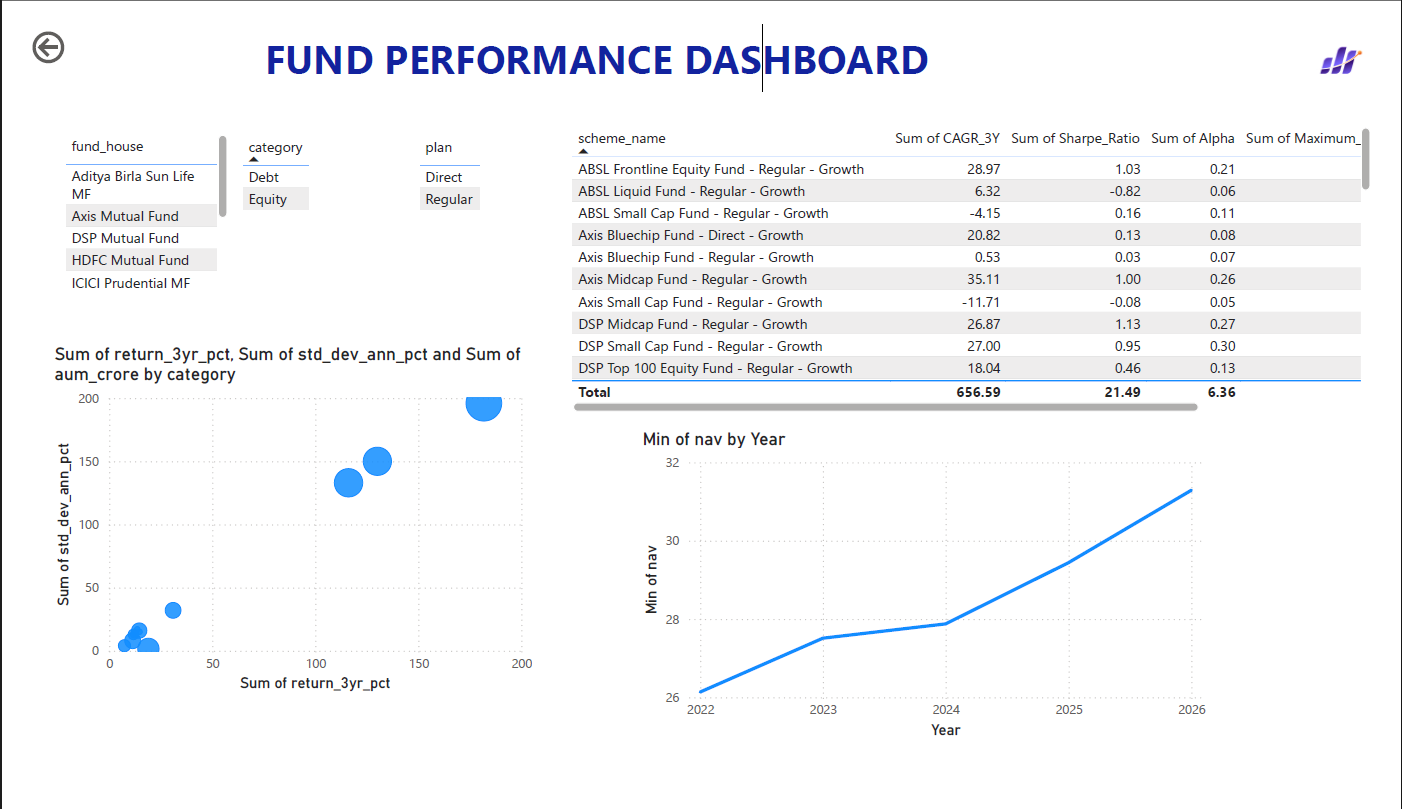

This screenshot's page, from the dashboard's own definition file:
{"tool":"powerbi","page":{"name":"Fund Performance","canvas":[1280,720],"ordinal":1},"visuals":[{"type":"tableEx","fields":{"Values":["fund_scorecard.scheme_name","Sum(fund_scorecard.CAGR_3Y)","Sum(fund_scorecard.Sharpe_Ratio)","Sum(fund_scorecard.Alpha)","Sum(fund_scorecard.Maximum_Drawdown)","Sum(fund_scorecard.Fund_Score)"]},"box":[512,91,768,280],"z":0},{"type":"textbox","box":[64,0,953,77],"z":1000},{"type":"tableEx","fields":{"Values":["fund_master_clean.fund_house"]},"box":[31,98,164,159],"z":2000},{"type":"tableEx","fields":{"Values":["fund_master_clean.category"]},"box":[199,99,158,158],"z":3000},{"type":"tableEx","fields":{"Values":["fund_master_clean.plan"]},"box":[367,99,134,158],"z":4000},{"type":"lineChart","fields":{"Category":["nav_history_clean.date.Variation.Date Hierarchy.Year","nav_history_clean.date.Variation.Date Hierarchy.Quarter","nav_history_clean.date.Variation.Date Hierarchy.Month","nav_history_clean.date.Variation.Date Hierarchy.Day"],"Y":["Min(nav_history_clean.nav)"]},"box":[579,381,544,300],"z":5000},{"type":"scatterChart","fields":{"X":["Sum(scheme_performance_clean.return_3yr_pct)"],"Category":["scheme_performance_clean.category"],"Y":["Sum(scheme_performance_clean.std_dev_ann_pct)"],"Size":["Sum(scheme_performance_clean.aum_crore)"]},"box":[21,301,463,336],"z":6000},{"type":"actionButton","box":[0,0,100,40],"z":6001},{"type":"image","box":[1222,0,50,66],"z":6002}]}

Visuals, with their boxes in screenshot pixels (x1, y1, x2, y2), scaled from the page's 1280x720 canvas onto the 1402x809 screenshot:
tableEx - fund_scorecard.scheme_name x Sum(fund_scorecard.CAGR_3Y): detection(561, 102, 1401, 417)
textbox: detection(70, 0, 1114, 87)
tableEx - fund_master_clean.fund_house: detection(34, 110, 214, 289)
tableEx - fund_master_clean.category: detection(218, 111, 391, 289)
tableEx - fund_master_clean.plan: detection(402, 111, 549, 289)
lineChart - nav_history_clean.date.Variation.Date Hierarchy.Year x nav_history_clean.date.Variation.Date Hierarchy.Quarter: detection(634, 428, 1230, 765)
scatterChart - Sum(scheme_performance_clean.return_3yr_pct) x scheme_performance_clean.category: detection(23, 338, 530, 716)
actionButton: detection(0, 0, 110, 45)
image: detection(1338, 0, 1393, 74)
